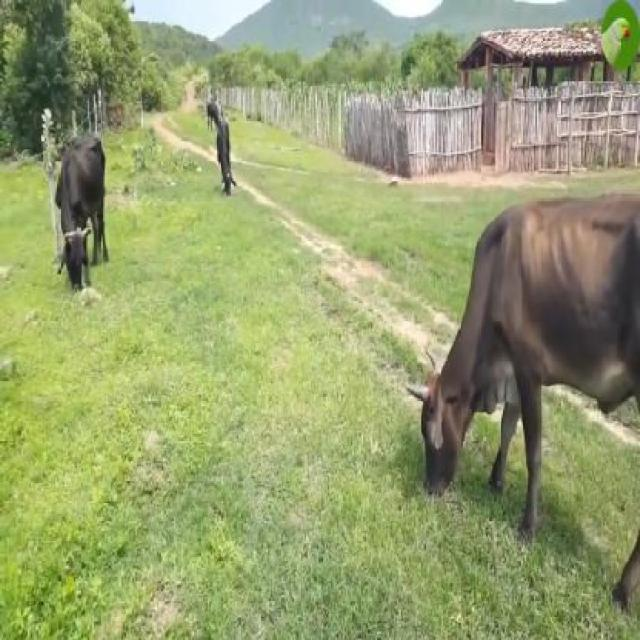Cow: (411, 188, 638, 617), (55, 132, 108, 296)
